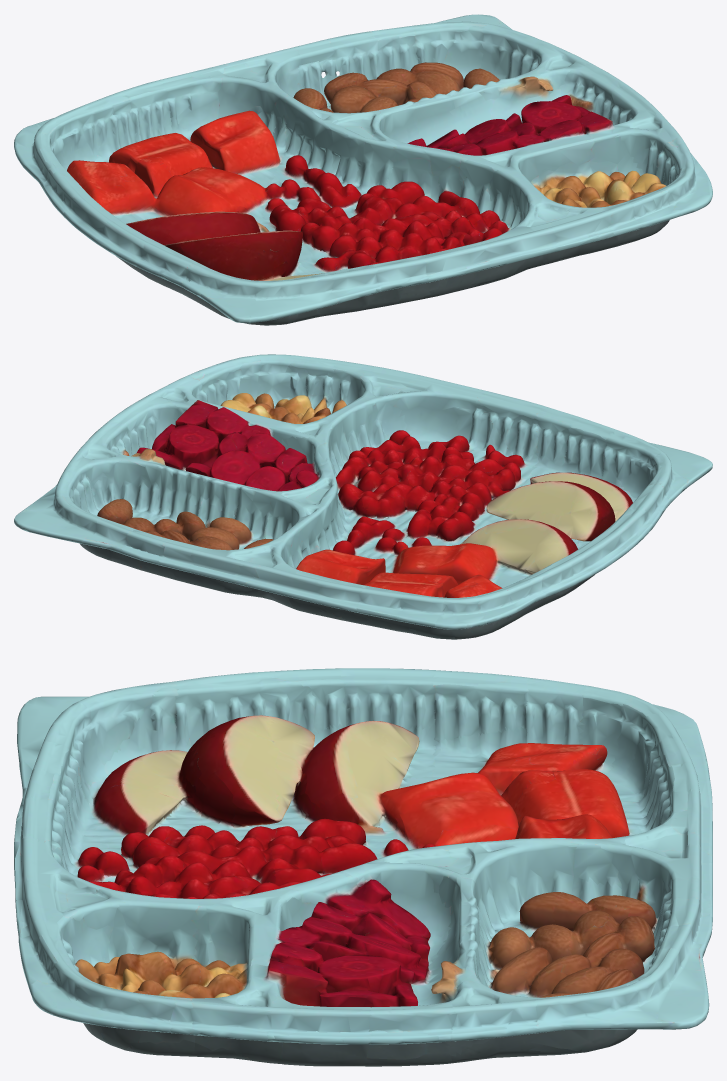
File: Kid_veg.glb
The picture shows the model from 3 angles, top to bottom: view 1: azimuth 30°, elevation 25°; view 2: azimuth 150°, elevation 25°; view 3: azimuth 270°, elevation 25°; orthographic projection. The views are drawn at different scales.
Visible parts, largest first — view 1: mesh_node; view 2: mesh_node; view 3: mesh_node.
Boxes of the visible parts, x1,y1,x2,y2 form: mesh_node: [14, 14, 712, 325]; mesh_node: [14, 354, 712, 639]; mesh_node: [14, 668, 712, 1066].
Size of the model in its own units: 1.9 by 0.1951 by 1.57.
1 material, 1 textured.
